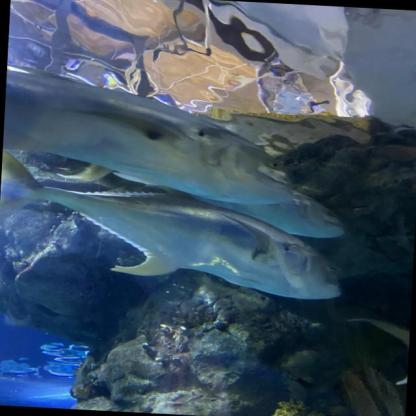fish: (0, 148, 349, 303), (1, 63, 300, 207), (191, 183, 348, 240), (343, 316, 410, 387)
